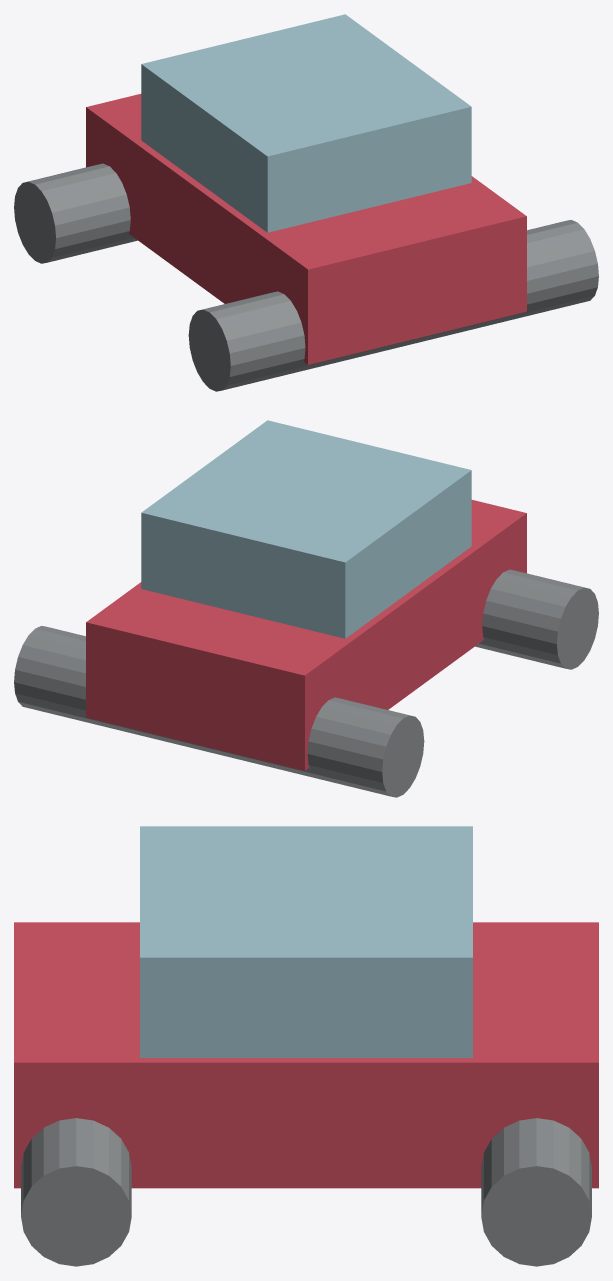
The model's file is Toy.glb.
3 renders of one model, top to bottom at view 1: azimuth 30°, elevation 25°; view 2: azimuth 150°, elevation 25°; view 3: azimuth 270°, elevation 25°, orthographic. The views are drawn at different scales.
Visible parts, largest first — view 1: Mesh_Mesh_head_geo.001_lambert2SG.001; view 2: Mesh_Mesh_head_geo.001_lambert2SG.001; view 3: Mesh_Mesh_head_geo.001_lambert2SG.001.
Part boxes in pixels (box(x1,y1,x2,y2)): Mesh_Mesh_head_geo.001_lambert2SG.001: box(14, 14, 598, 391); Mesh_Mesh_head_geo.001_lambert2SG.001: box(14, 420, 598, 797); Mesh_Mesh_head_geo.001_lambert2SG.001: box(14, 826, 598, 1266).
Bounding box in the file's own units: 101 × 51 × 106.
